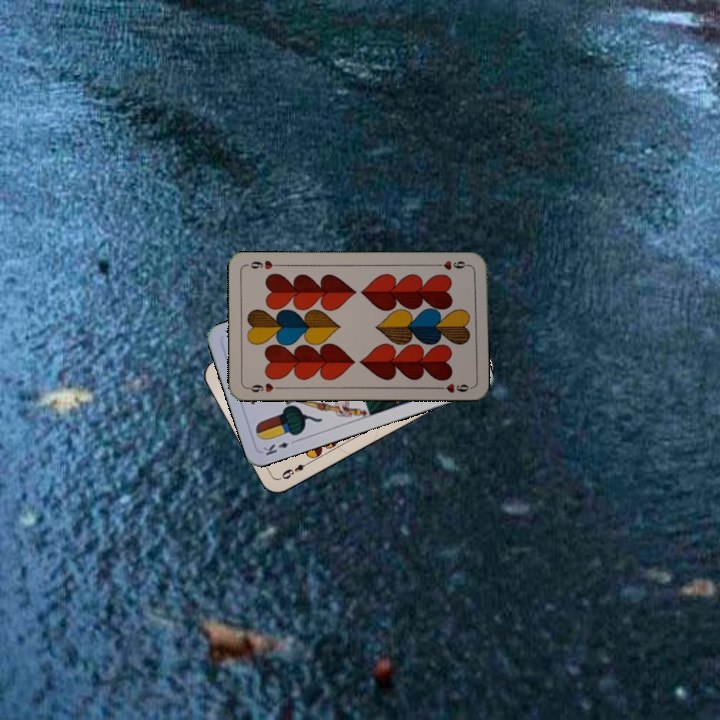E9: (277, 457, 314, 482)
EK: (259, 435, 299, 458)
H9: (243, 379, 284, 395), (432, 257, 472, 273)
